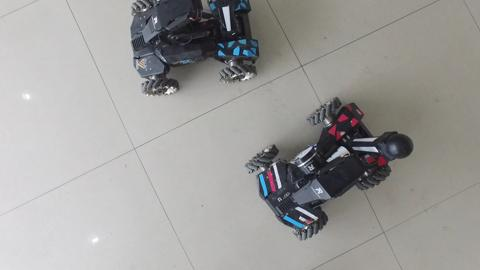chariot: (240, 81, 415, 248), (119, 1, 261, 98)
